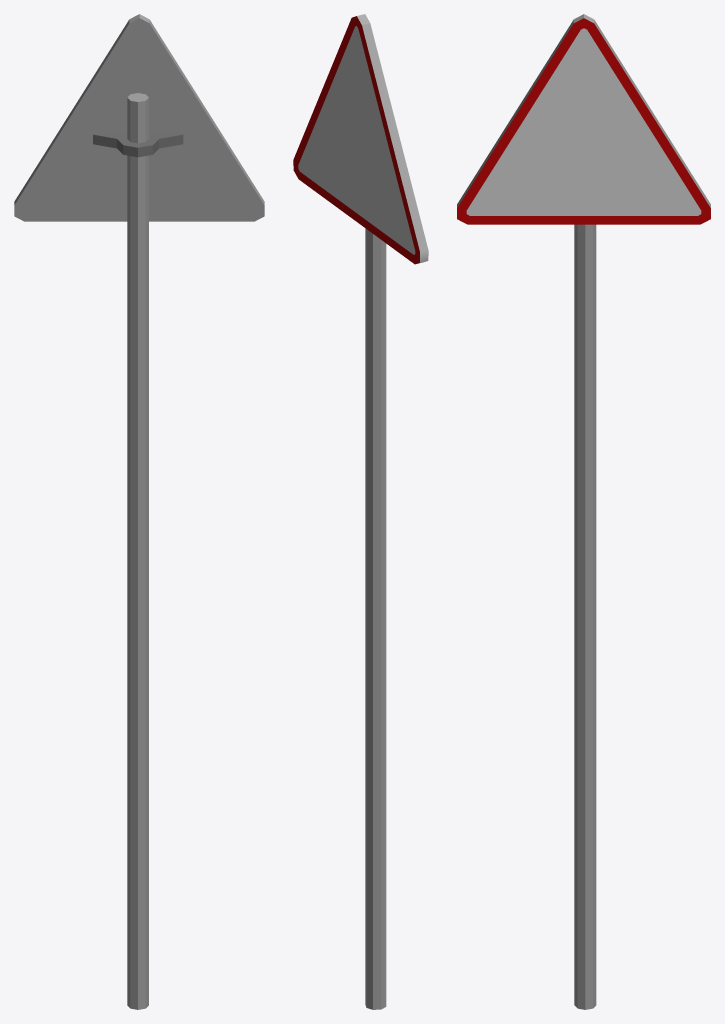
Rendered from Znak_V1.fbx.
The picture shows the model from 3 angles, left to right: view 1: azimuth 90°, elevation 25°; view 2: azimuth 210°, elevation 25°; view 3: azimuth 270°, elevation 25°; orthographic projection.
Visible parts, largest first — view 1: Znak_V1; view 2: Znak_V1; view 3: Znak_V1.
Boxes of the visible parts, x1,y1,x2,y2 form: Znak_V1: (14, 14, 264, 1009); Znak_V1: (293, 14, 428, 1009); Znak_V1: (457, 14, 710, 1009).
Size of the model in its own units: 0.1781 by 4.59 by 1.06.
